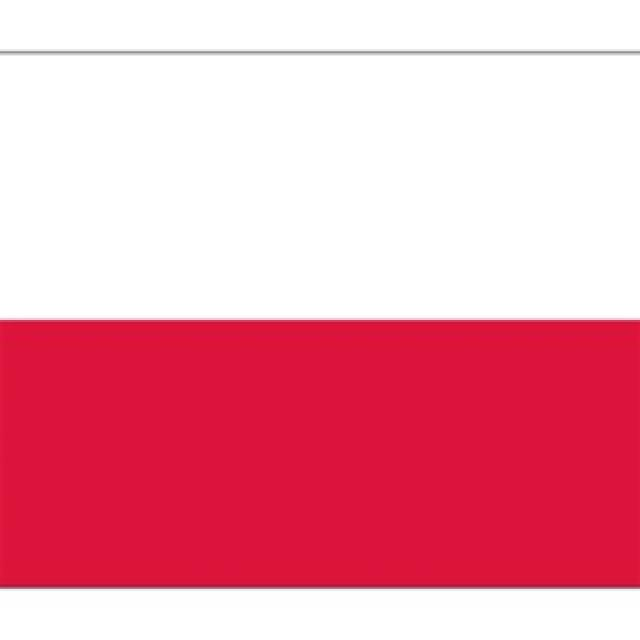poland: (0, 48, 640, 590)
